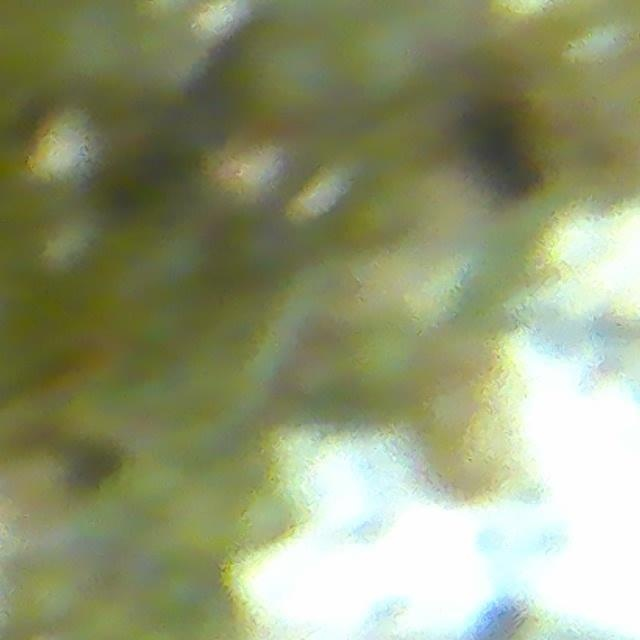SeaGrape: (248, 27, 346, 124), (331, 6, 418, 99)
